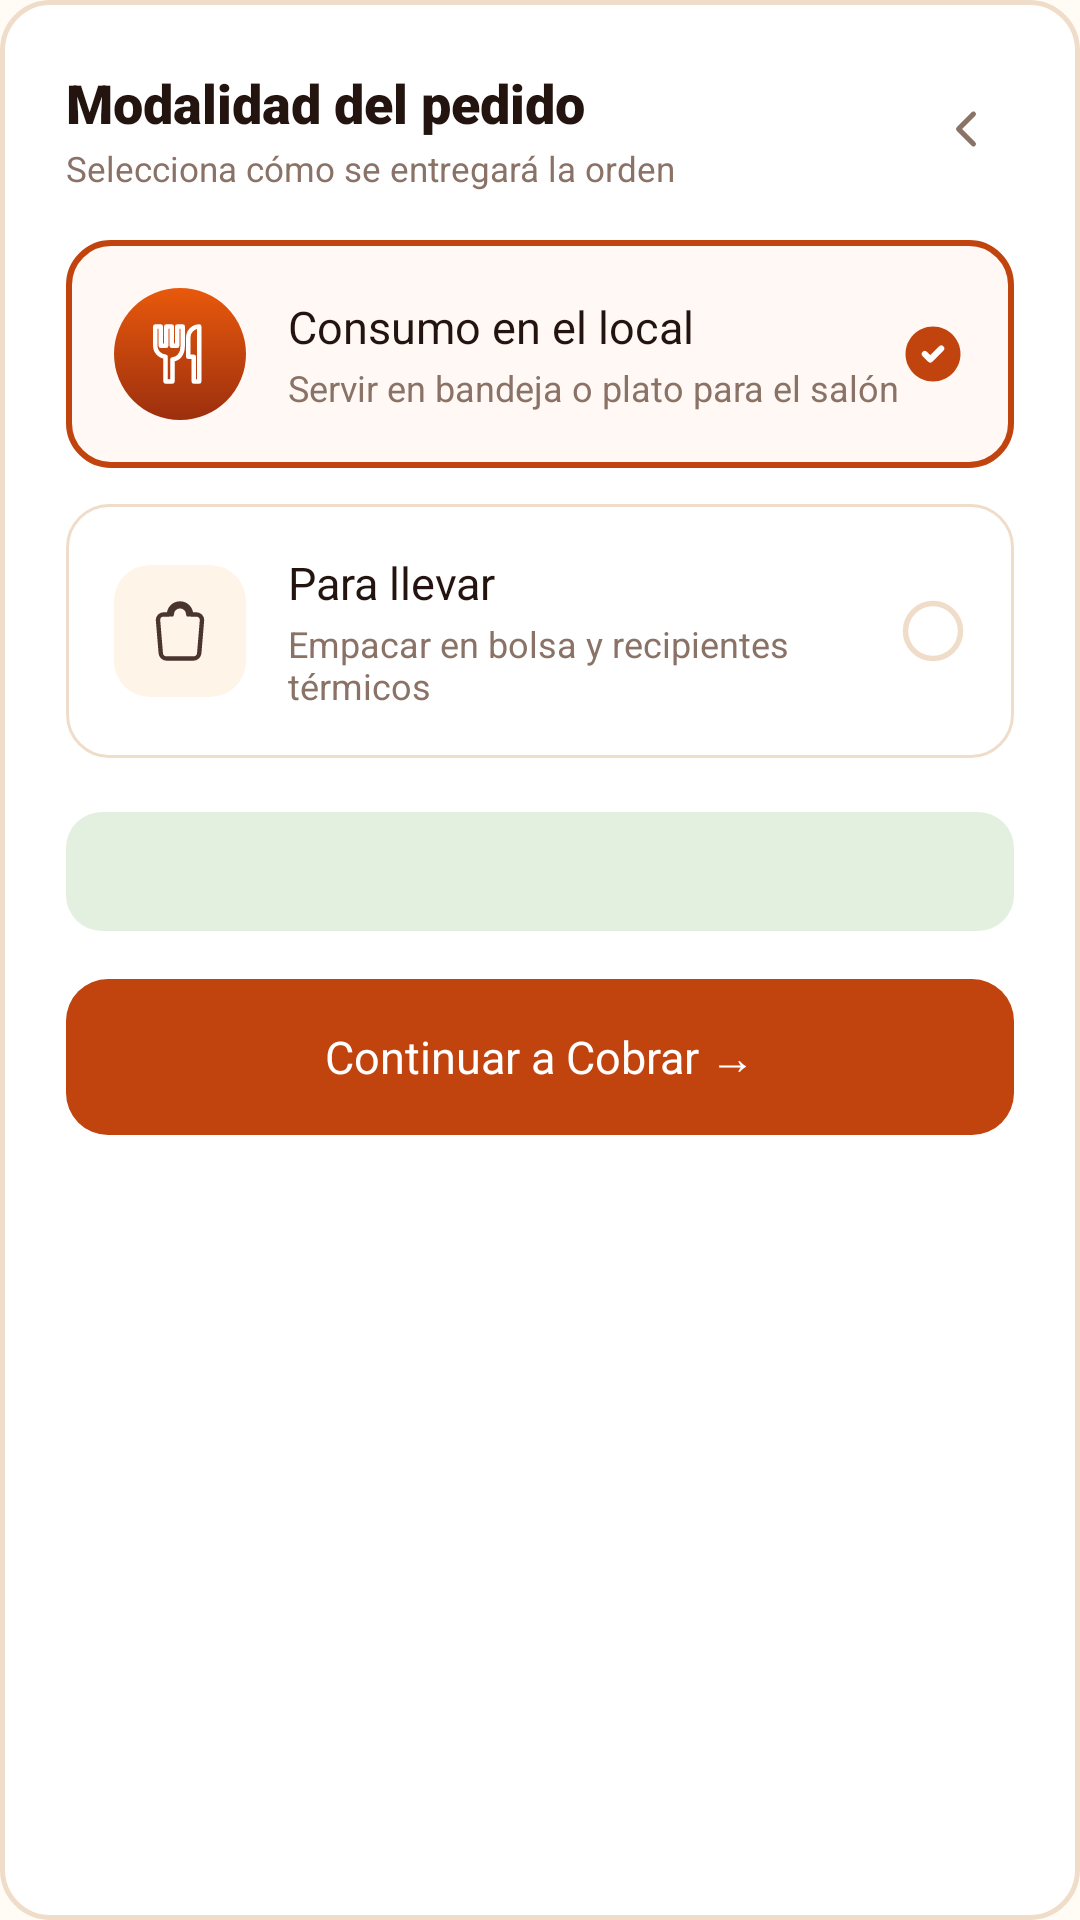

Where to tap for icons on this 1080w x 1920h app screen, as (x,y):
No seleccionado: (933,631)
Seleccionado: (933,354)
